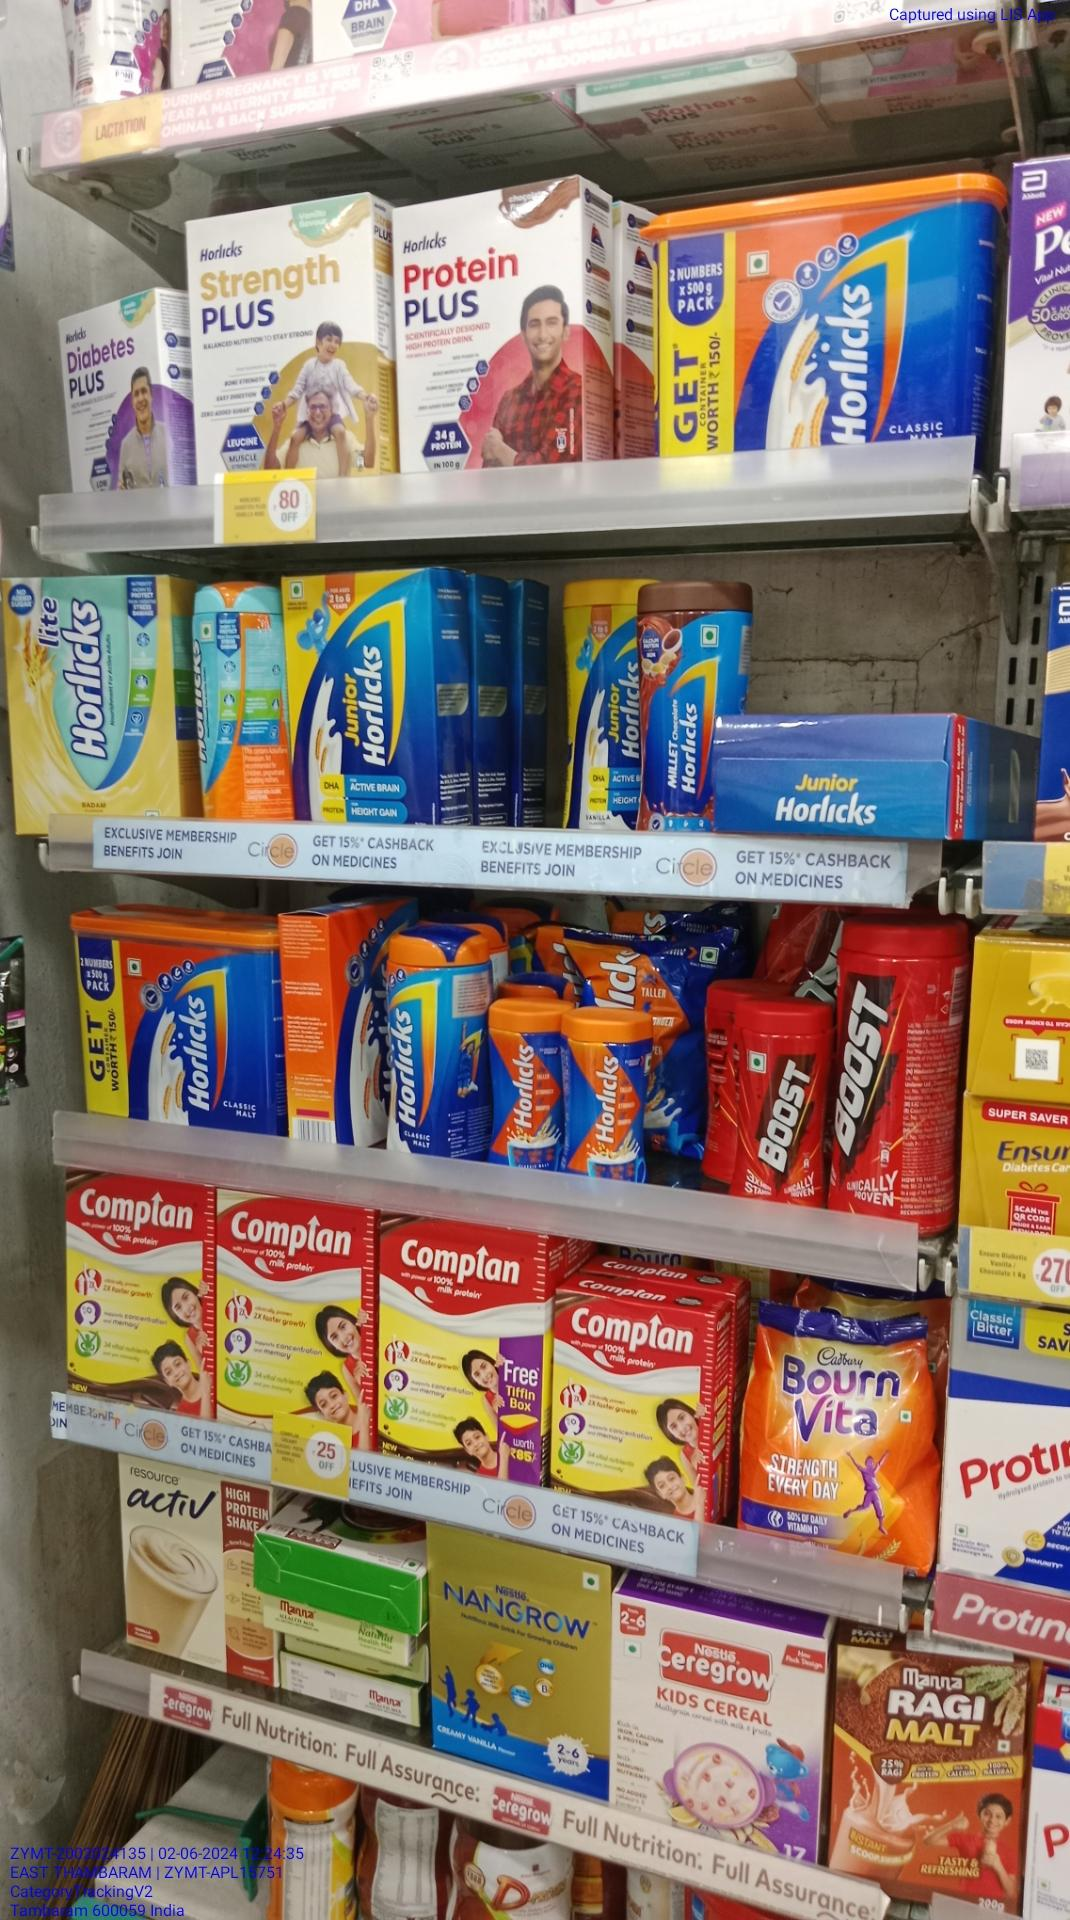HORLICKS_JUNIOR_VANILLA_500_GM_JAR: (563, 575, 646, 832)
HORLICK_CLASSIC_MALT_500_G_JAR: (389, 928, 488, 1157)
HORLICK_MALT_1_KG_CONTAINER: (659, 166, 988, 485), (80, 925, 283, 1133)
